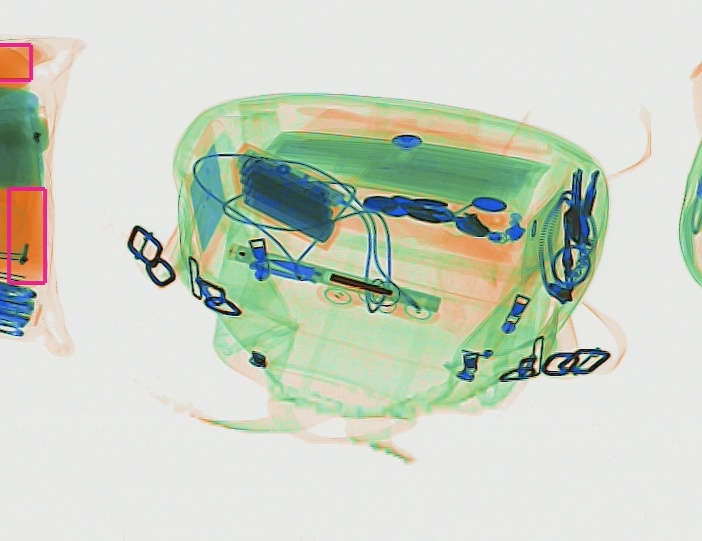knife: (265, 255, 328, 281)
powerbank: (228, 139, 347, 254)
